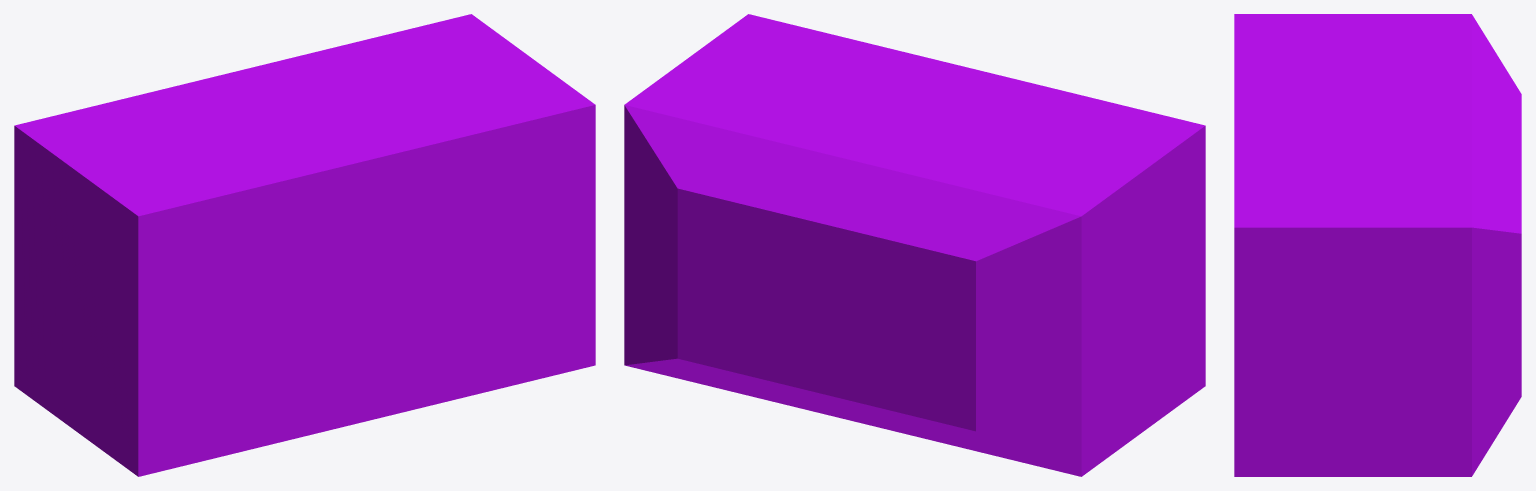
The model's file is brick2.fbx.
The picture shows the model from 3 angles, left to right: view 1: azimuth 30°, elevation 25°; view 2: azimuth 150°, elevation 25°; view 3: azimuth 270°, elevation 25°; orthographic projection. The views are drawn at different scales.
Visible parts, largest first — view 1: Cube; view 2: Cube; view 3: Cube.
Part boxes in pixels (x1=…): Cube: x1=14, y1=14, x2=595, y2=476; Cube: x1=624, y1=14, x2=1205, y2=476; Cube: x1=1234, y1=14, x2=1521, y2=476.
Bounding box in the file's own units: 5190 × 2827 × 2953.
